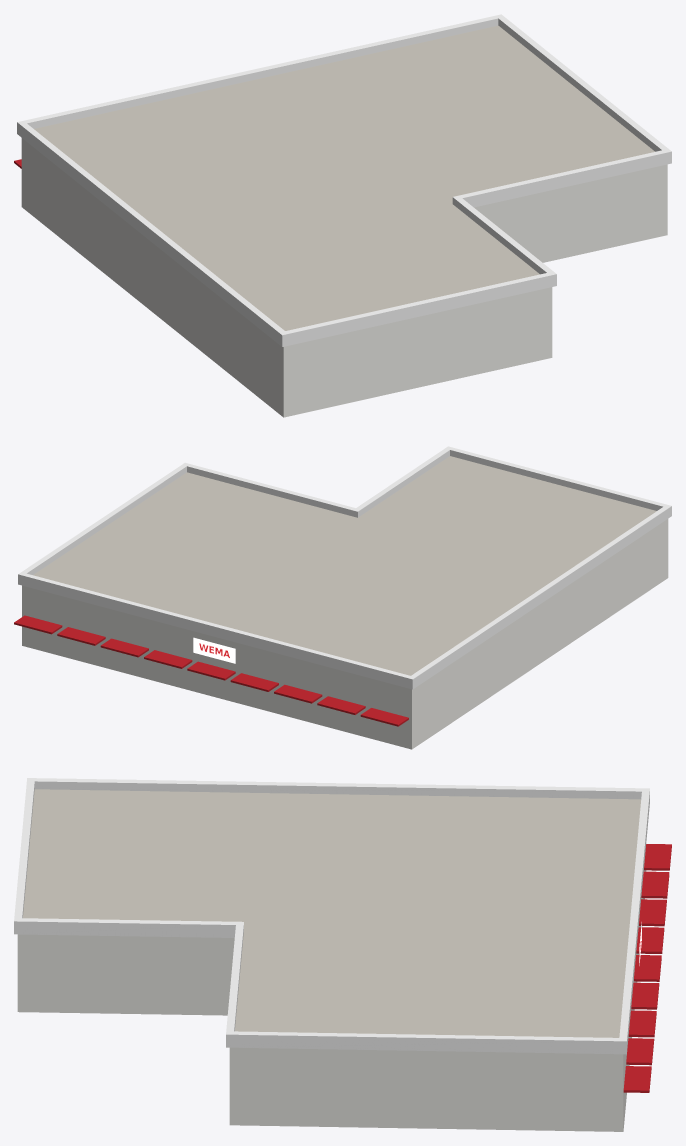
The model's file is wema_ponton.glb.
3 renders of one model, top to bottom at view 1: azimuth 30°, elevation 25°; view 2: azimuth 150°, elevation 25°; view 3: azimuth 270°, elevation 25°, orthographic. The views are drawn at different scales.
Visible parts, largest first — view 1: wema_ponton_lod0; view 2: wema_ponton_lod0; view 3: wema_ponton_lod0.
Part boxes in pixels (x1,y1,x2,y2): wema_ponton_lod0: (14,14,671,417); wema_ponton_lod0: (14,446,671,749); wema_ponton_lod0: (14,778,671,1131).
Size of what is drawn, in the model's own units: 43.52 by 7.1 by 45.95.
Materials: 5 (2 with a texture image).
